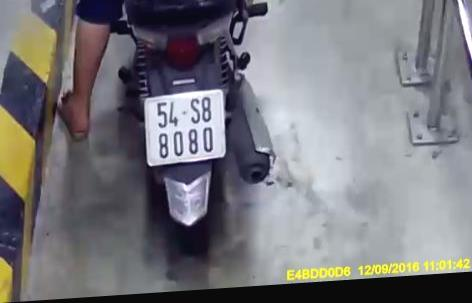License_Plate: (133, 79, 237, 173)
